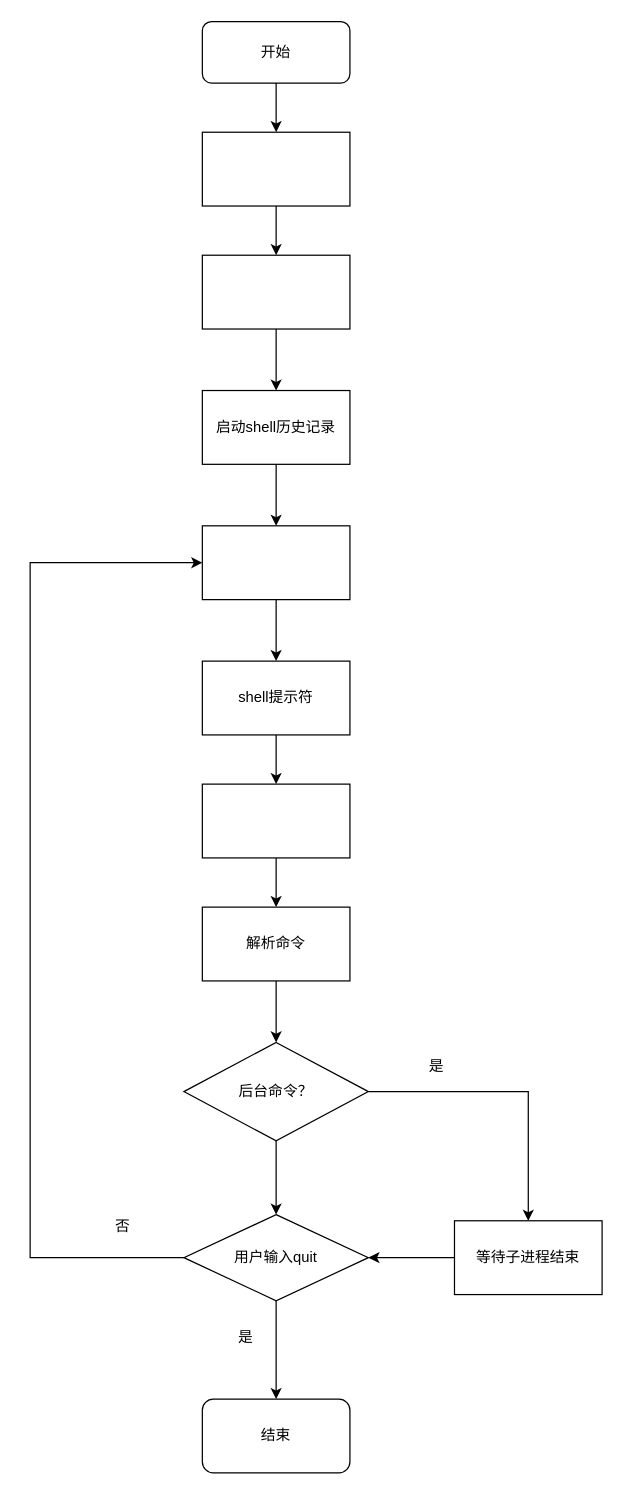
Some shapes in this 624 by 1494 pixel diagram are drawn without their labels. The box of each missing label's shape, as (x1, y1, x2, y2) in pixels:
信号处理: (201, 254, 350, 329)
初始化变量: (201, 525, 350, 600)
清屏: (201, 131, 350, 206)
读取用户输入: (201, 783, 350, 858)
